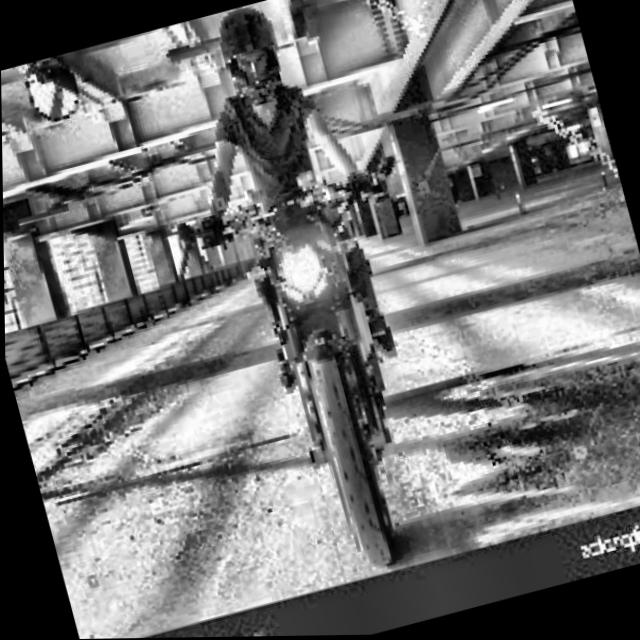motorcycle: (149, 152, 511, 607)
